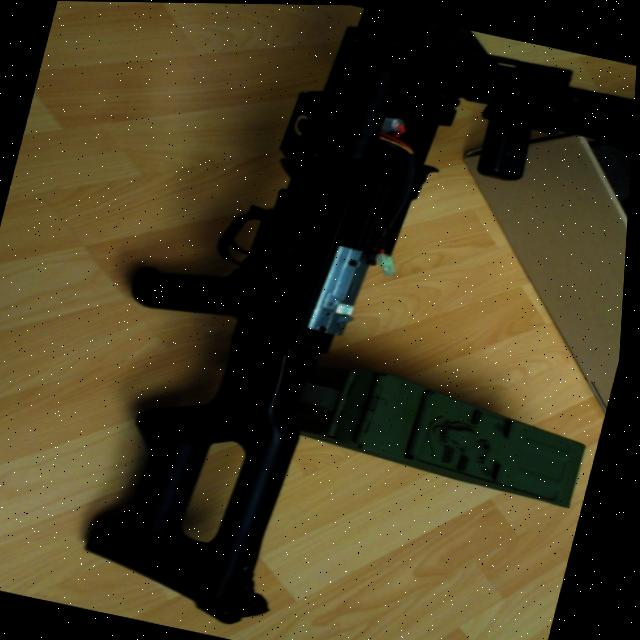firearm: (58, 1, 575, 640)
